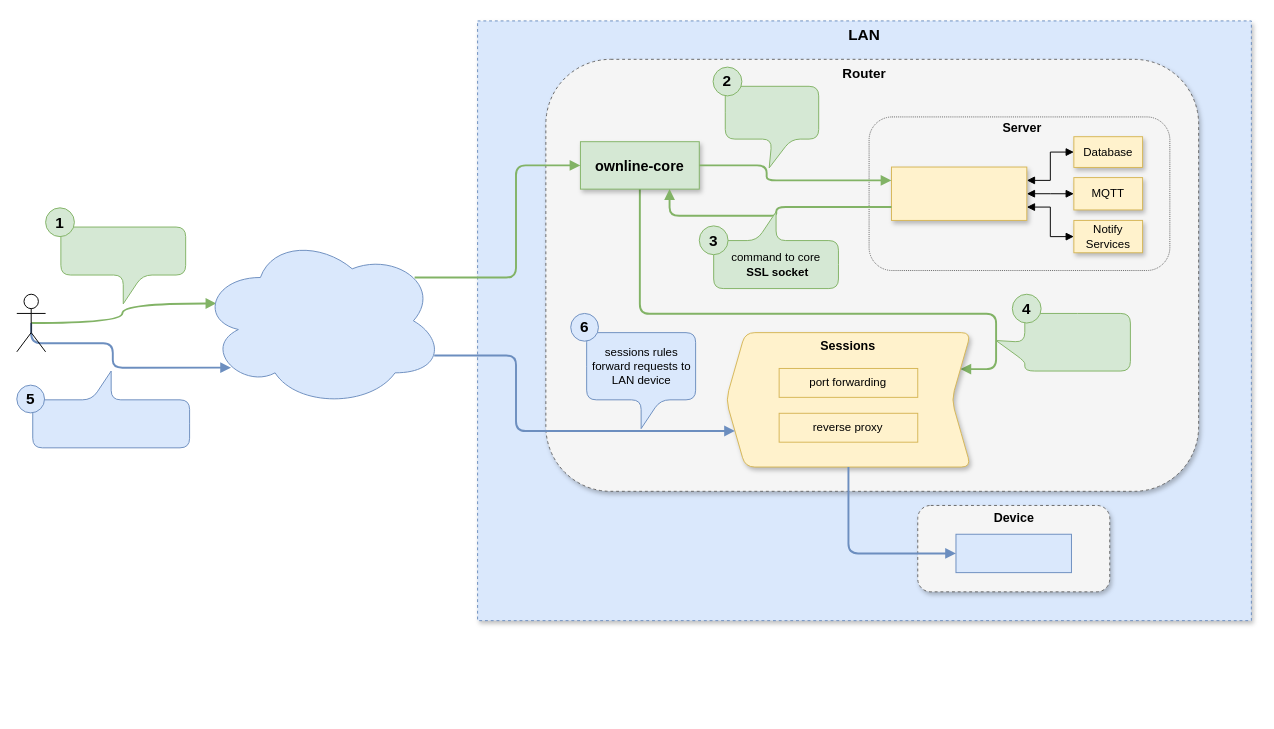
Some shapes in this 1274 by 729 pixel diagram are drawn without their labels. Each missing label, with the centre of its shape:
"connection to LAN service" goes at (111,409).
"creates sessions to LAN services" goes at (1062,341).
"Internet" goes at (321,320).
"ownline-web" goes at (960,194).
"service" goes at (1013,553).
"Single Packet Authentication ( SPA ) UDP" goes at (123,265).
"SPA redirect to web API" goes at (771,126).
